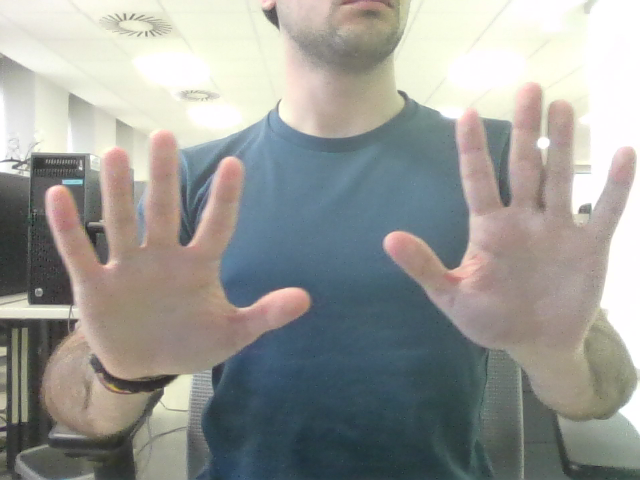Manos Arriba: (87, 109, 599, 340)
